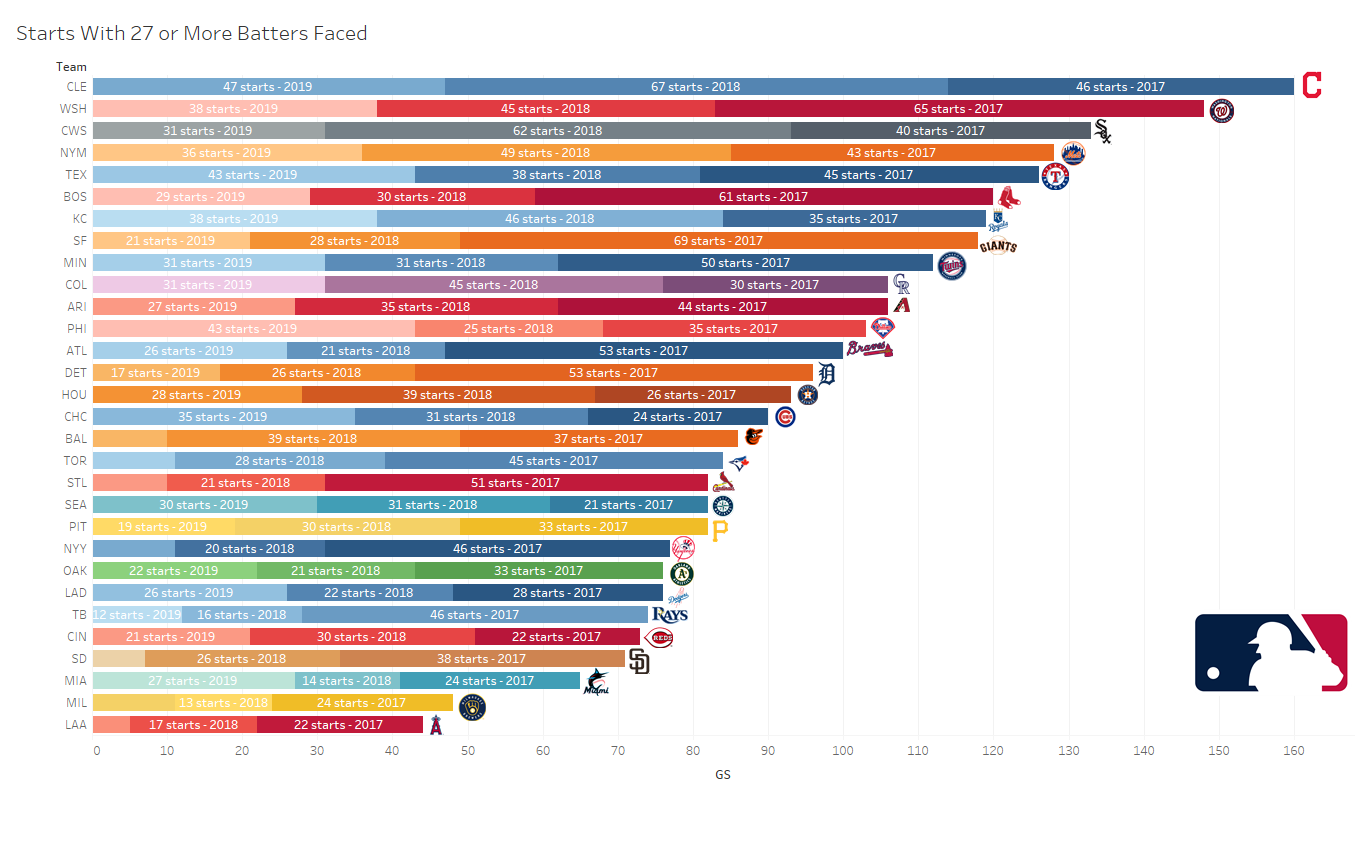

The dashboard page shown, as its layout file describes it:
{"tool":"tableau","page":{"name":"Starts by Team (Logos)","canvas":[1366,868],"ordinal":0},"visuals":[{"type":"worksheet","box":[0,0,1366,868]},{"type":"worksheet","title":"Starts by Team","mark":"Automatic","rows":["mlbTeam_pitcher"],"cols":["GS"],"box":[8,8,1350,852]},{"type":"worksheet","param":"C:/Users/Zachary/Pictures/MLB Logos/Cleveland Indians.png","box":[1301,70,26,29]},{"type":"worksheet","param":"C:/Users/Zachary/Pictures/MLB Logos/Washington Nationals.png","box":[1209,98,30,25]},{"type":"worksheet","param":"C:/Users/Zachary/Pictures/MLB Logos/Chicago White Sox.png","box":[1092,117,27,28]},{"type":"worksheet","param":"C:/Users/Zachary/Pictures/MLB Logos/New York Mets.png","box":[1060,140,31,26]},{"type":"worksheet","param":"C:/Users/Zachary/Pictures/MLB Logos/Texas Rangers.png","box":[1041,162,30,28]},{"type":"worksheet","param":"C:/Users/Zachary/Pictures/MLB Logos/Boston Red Sox.png","box":[997,185,26,24]},{"type":"worksheet","param":"C:/Users/Zachary/Pictures/MLB Logos/Kansas City Royals.png","box":[988,208,28,24]},{"type":"worksheet","param":"C:/Users/Zachary/Pictures/MLB Logos/San Francisco Giants.png","box":[979,235,38,25]},{"type":"worksheet","param":"C:/Users/Zachary/Pictures/MLB Logos/Minnesota Twins.png","box":[936,250,33,31]},{"type":"worksheet","param":"C:/Users/Zachary/Pictures/MLB Logos/Colorado Rockies.png","box":[893,273,22,21]},{"type":"worksheet","param":"C:/Users/Zachary/Pictures/MLB Logos/Arizona Diamondbacks.png","box":[892,297,18,20]},{"type":"worksheet","param":"C:/Users/Zachary/Pictures/MLB Logos/Philadelphia Phillies.png","box":[868,316,29,28]},{"type":"worksheet","param":"C:/Users/Zachary/Pictures/MLB Logos/Atlanta Braves.png","box":[846,340,47,22]},{"type":"worksheet","param":"C:/Users/Zachary/Pictures/MLB Logos/Detroit Tigers.png","box":[818,361,20,26]},{"type":"worksheet","param":"C:/Users/Zachary/Pictures/MLB Logos/Houston Astros.png","box":[797,384,21,21]},{"type":"worksheet","param":"C:/Users/Zachary/Pictures/MLB Logos/Chicago Cubs.png","box":[774,405,25,23]},{"type":"worksheet","param":"C:/Users/Zachary/Pictures/MLB Logos/Baltimore Orioles.png","box":[744,427,19,21]},{"type":"worksheet","param":"C:/Users/Zachary/Pictures/MLB Logos/Toronto Blue Jays.png","box":[725,448,30,29]},{"type":"worksheet","param":"C:/Users/Zachary/Pictures/MLB Logos/St Louis Cardinals.png","box":[712,470,33,22]},{"type":"worksheet","param":"C:/Users/Zachary/Pictures/MLB Logos/Seattle Mariners.png","box":[711,494,23,23]},{"type":"worksheet","param":"C:/Users/Zachary/Pictures/MLB Logos/Pittsburgh Pirates.png","box":[712,519,22,23]},{"type":"worksheet","param":"C:/Users/Zachary/Pictures/MLB Logos/New York Yankees.png","box":[671,535,31,27]},{"type":"worksheet","param":"C:/Users/Zachary/Pictures/MLB Logos/Oakland Athletics.png","box":[669,561,27,25]},{"type":"worksheet","param":"C:/Users/Zachary/Pictures/MLB Logos/Los Angeles Dodgers.png","box":[668,587,21,23]},{"type":"worksheet","param":"C:/Users/Zachary/Pictures/MLB Logos/Tampa Bay Rays.png","box":[651,606,37,26]},{"type":"worksheet","param":"C:/Users/Zachary/Pictures/MLB Logos/MLB Logo.png","box":[1190,609,162,117]},{"type":"worksheet","param":"C:/Users/Zachary/Pictures/MLB Logos/Cincinnati Reds.png","box":[643,627,34,21]},{"type":"worksheet","param":"C:/Users/Zachary/Pictures/MLB Logos/San Diego Padres.png","box":[629,648,21,27]},{"type":"worksheet","param":"C:/Users/Zachary/Pictures/MLB Logos/Miami Marlins.png","box":[581,667,35,29]},{"type":"worksheet","param":"C:/Users/Zachary/Pictures/MLB Logos/Milwaukee Brewers.png","box":[458,693,28,28]},{"type":"worksheet","param":"C:/Users/Zachary/Pictures/MLB Logos/Los Angeles Angels.png","box":[428,713,22,22]}]}

Visuals, with their boxes in screenshot pixels (x1, y1, x2, y2), scaled from the page's 1366x868 canvas onto the 1366x868 screenshot:
worksheet: [x1=0, y1=0, x2=1365, y2=867]
"Starts by Team" worksheet: [x1=8, y1=8, x2=1358, y2=860]
worksheet: [x1=1301, y1=70, x2=1327, y2=99]
worksheet: [x1=1209, y1=98, x2=1239, y2=123]
worksheet: [x1=1092, y1=117, x2=1119, y2=145]
worksheet: [x1=1060, y1=140, x2=1091, y2=166]
worksheet: [x1=1041, y1=162, x2=1071, y2=190]
worksheet: [x1=997, y1=185, x2=1023, y2=209]
worksheet: [x1=988, y1=208, x2=1016, y2=232]
worksheet: [x1=979, y1=235, x2=1017, y2=260]
worksheet: [x1=936, y1=250, x2=969, y2=281]
worksheet: [x1=893, y1=273, x2=915, y2=294]
worksheet: [x1=892, y1=297, x2=910, y2=317]
worksheet: [x1=868, y1=316, x2=897, y2=344]
worksheet: [x1=846, y1=340, x2=893, y2=362]
worksheet: [x1=818, y1=361, x2=838, y2=387]
worksheet: [x1=797, y1=384, x2=818, y2=405]
worksheet: [x1=774, y1=405, x2=799, y2=428]
worksheet: [x1=744, y1=427, x2=763, y2=448]
worksheet: [x1=725, y1=448, x2=755, y2=477]
worksheet: [x1=712, y1=470, x2=745, y2=492]
worksheet: [x1=711, y1=494, x2=734, y2=517]
worksheet: [x1=712, y1=519, x2=734, y2=542]
worksheet: [x1=671, y1=535, x2=702, y2=562]
worksheet: [x1=669, y1=561, x2=696, y2=586]
worksheet: [x1=668, y1=587, x2=689, y2=610]
worksheet: [x1=651, y1=606, x2=688, y2=632]
worksheet: [x1=1190, y1=609, x2=1352, y2=726]
worksheet: [x1=643, y1=627, x2=677, y2=648]
worksheet: [x1=629, y1=648, x2=650, y2=675]
worksheet: [x1=581, y1=667, x2=616, y2=696]
worksheet: [x1=458, y1=693, x2=486, y2=721]
worksheet: [x1=428, y1=713, x2=450, y2=735]
